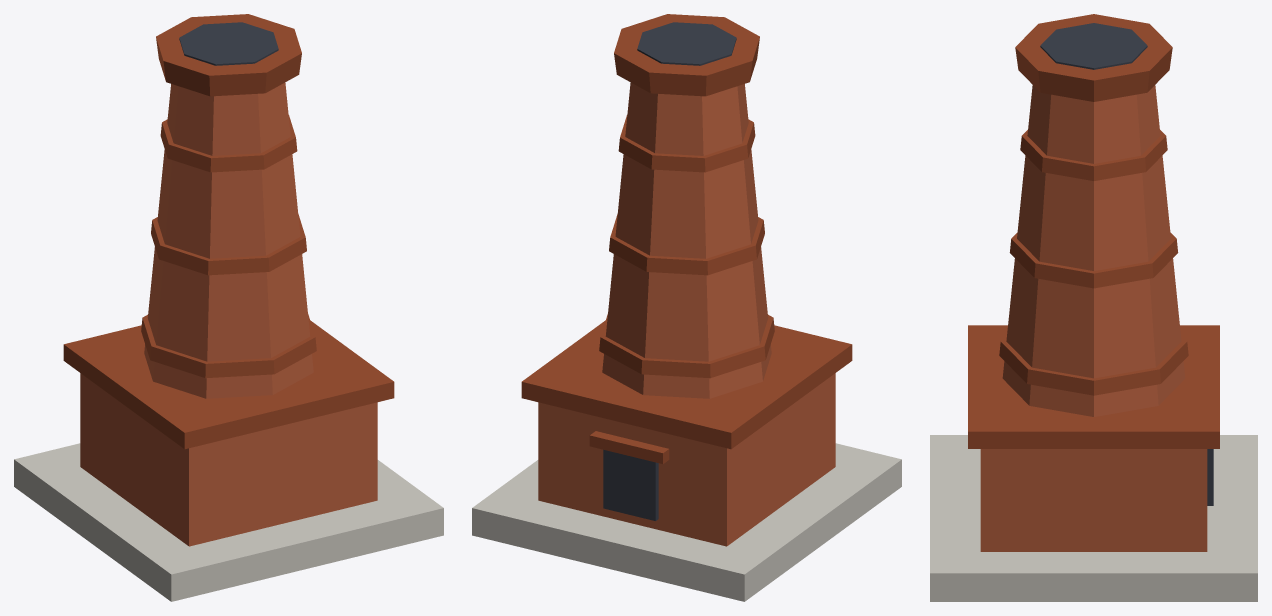
File: chamine_grande.glb
The picture shows the model from 3 angles, left to right: view 1: azimuth 30°, elevation 25°; view 2: azimuth 150°, elevation 25°; view 3: azimuth 270°, elevation 25°; orthographic projection. The views are drawn at different scales.
Visible parts, largest first — view 1: corpo; view 2: corpo; view 3: corpo.
Part boxes in pixels (bbox=[...]): corpo: bbox=[14, 14, 443, 601]; corpo: bbox=[472, 14, 901, 601]; corpo: bbox=[930, 14, 1257, 601].
Bounding box in the file's own units: 1.04 × 1.71 × 1.04.
